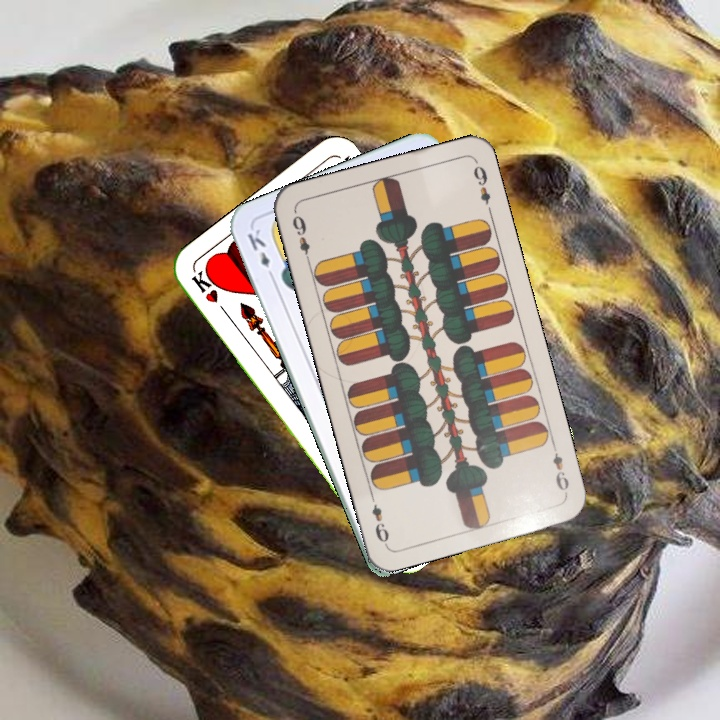E9: (288, 208, 314, 266), (548, 439, 572, 497)
EK: (243, 224, 278, 283)
HK: (187, 265, 232, 319)
